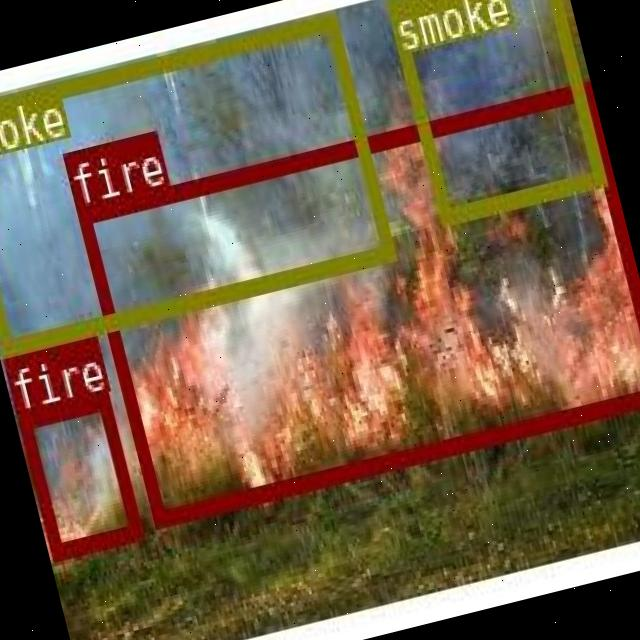fire: (73, 78, 640, 523), (14, 392, 140, 560)
smoke: (0, 12, 392, 353), (384, 0, 603, 221)
